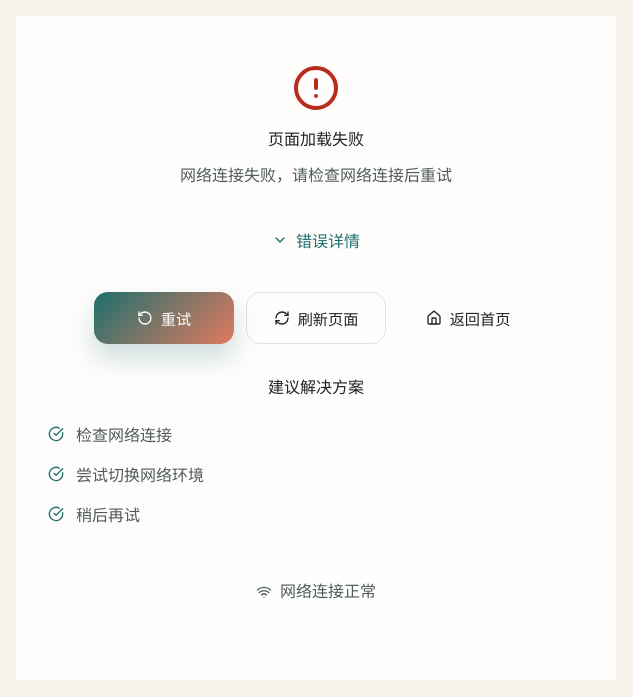
it: ModuleLoadErrorPage › Action Buttons › should disable retry button when max retries exceeded
# Retry twice to reach limit
Click the button with class "btn--primary" at (164, 318), box x1=94 y1=292 x2=234 y2=344
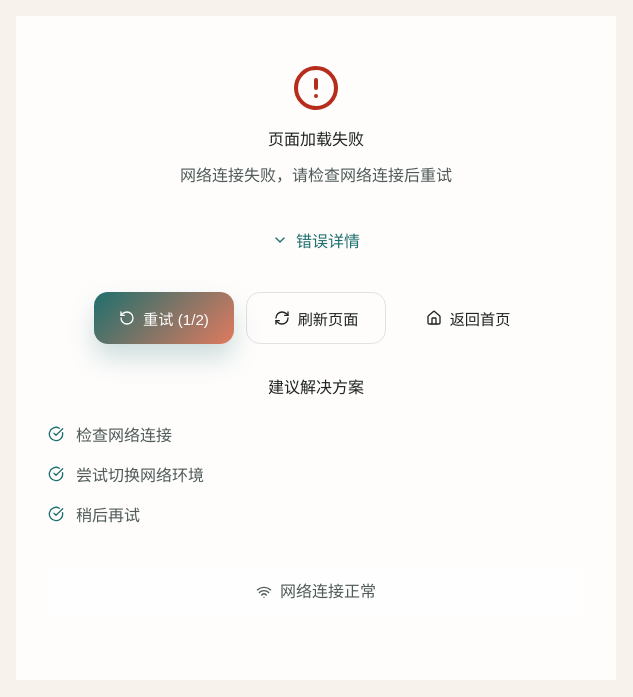
Click the button with class "btn--primary" at (164, 318), box x1=94 y1=292 x2=234 y2=344
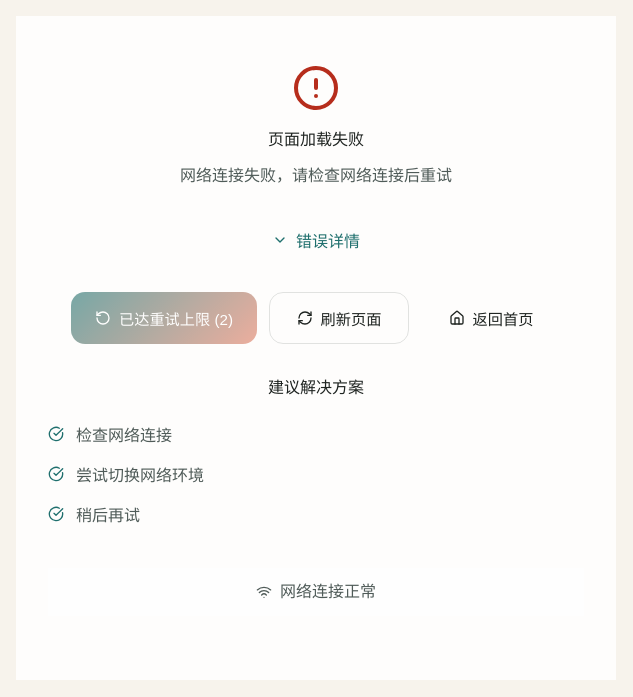
Expected: the button with class "btn--primary" is disabled, x1=71 y1=292 x2=257 y2=344
Expected: the button with class "btn--primary" shows "已达重试上限", x1=71 y1=292 x2=257 y2=344
